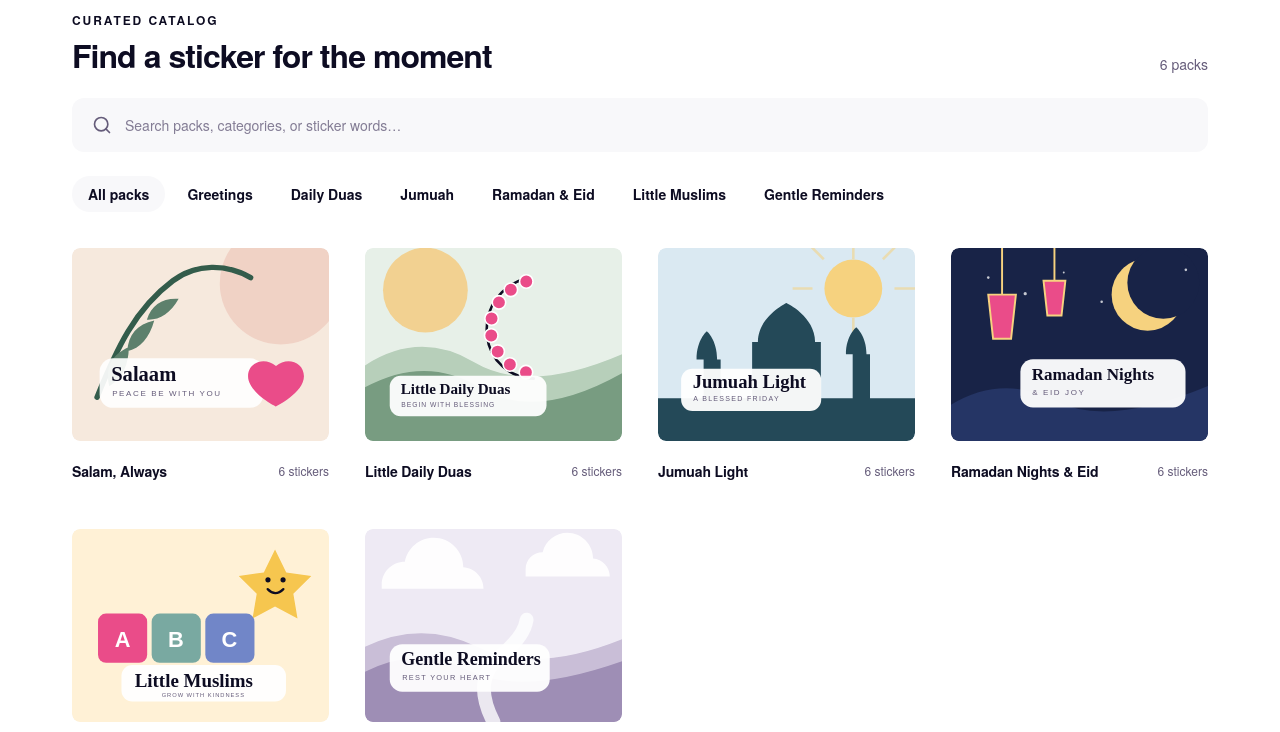
Test: CatalogBrowser › resets empty discovery state to show all packs
The width and height of the screenshot is (1280, 732).
Type "definitely-absent" into the search field at x=640, y=125, box left=72, top=98, right=1208, bottom=152
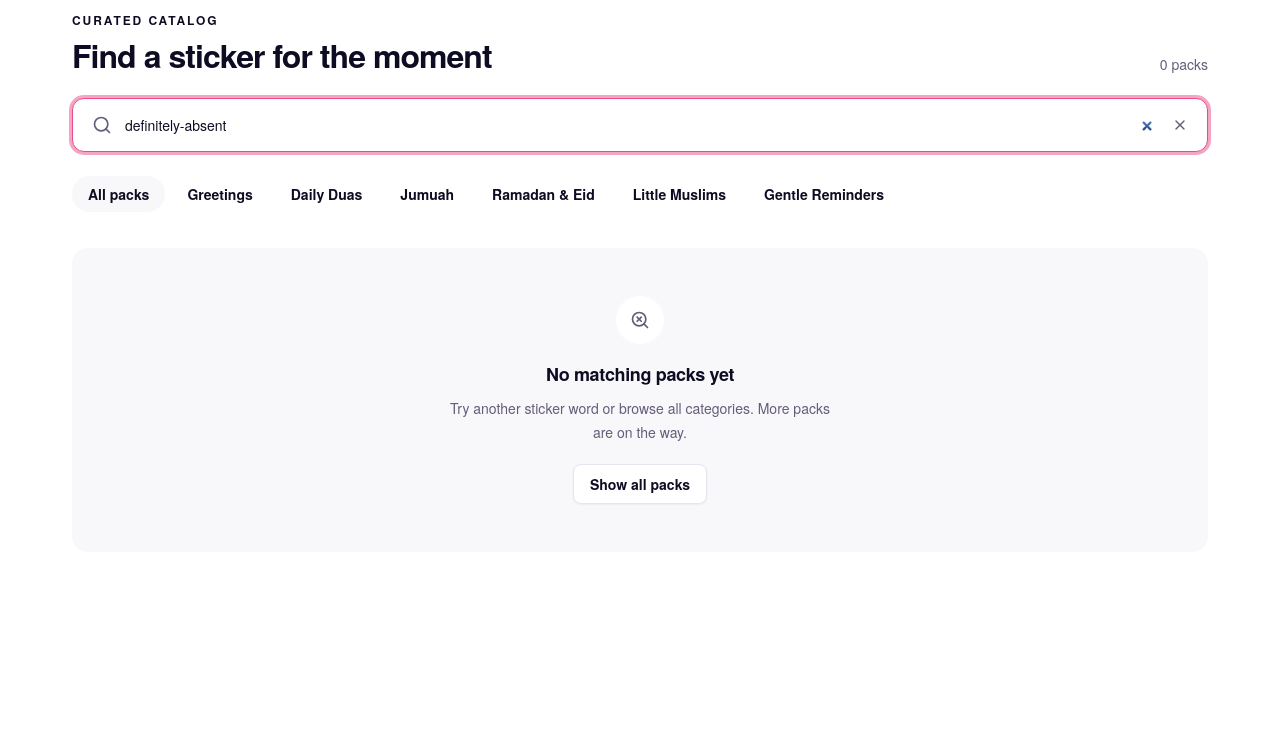
Click the button "Show all packs" at x=640, y=484, box left=573, top=464, right=707, bottom=504
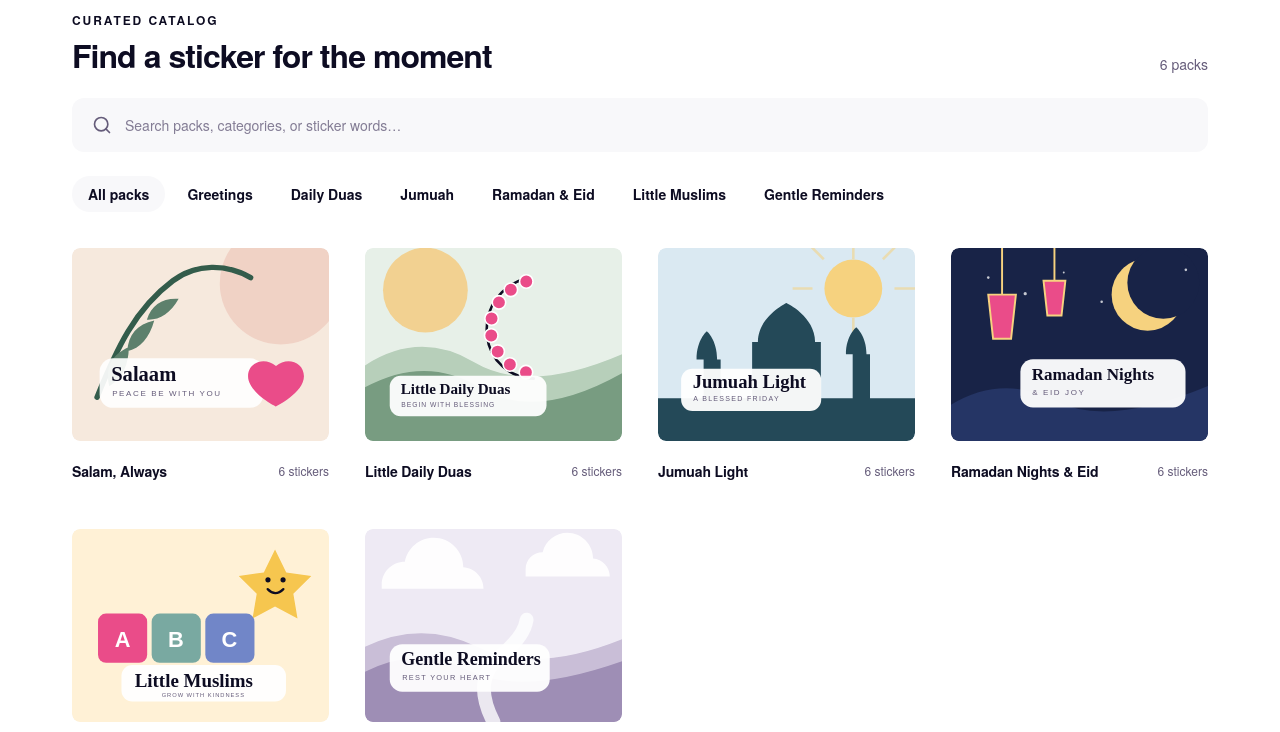
expect the message reads "6 packs": met, box left=1160, top=54, right=1208, bottom=74
